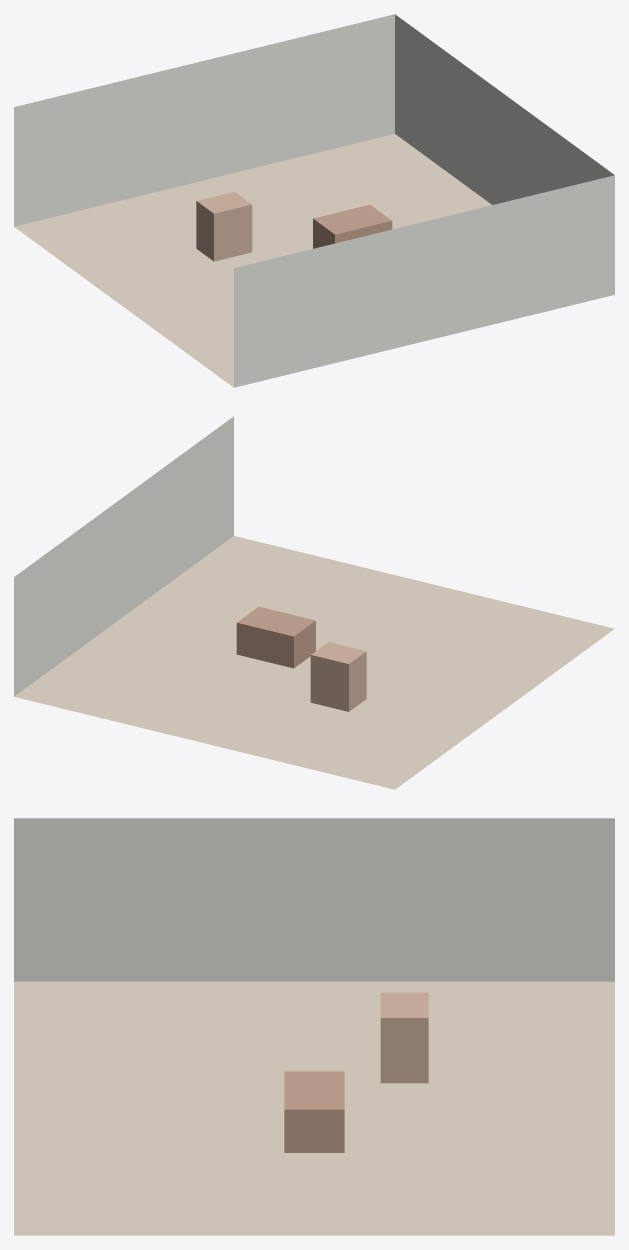
File: office.glb
The picture shows the model from 3 angles, top to bottom: view 1: azimuth 30°, elevation 25°; view 2: azimuth 150°, elevation 25°; view 3: azimuth 270°, elevation 25°; orthographic projection. The views are drawn at different scales.
Parts seen in each view (by area): view 1: Walls, Floor, Furniture2, Furniture1; view 2: Floor, Walls, Furniture1, Furniture2; view 3: Floor, Walls, Furniture1, Furniture2.
Boxes of the visible parts, <box> form: Walls: <box>14,14,614,387</box>; Floor: <box>14,134,491,387</box>; Furniture2: <box>196,191,252,261</box>; Furniture1: <box>313,204,392,248</box>; Floor: <box>14,536,614,789</box>; Walls: <box>14,416,233,696</box>; Furniture1: <box>236,606,315,668</box>; Furniture2: <box>310,642,366,711</box>; Floor: <box>14,981,614,1235</box>; Walls: <box>14,818,614,981</box>; Furniture1: <box>284,1071,344,1152</box>; Furniture2: <box>380,992,428,1083</box>.
Size of the model in its own units: 10 by 3 by 10.
